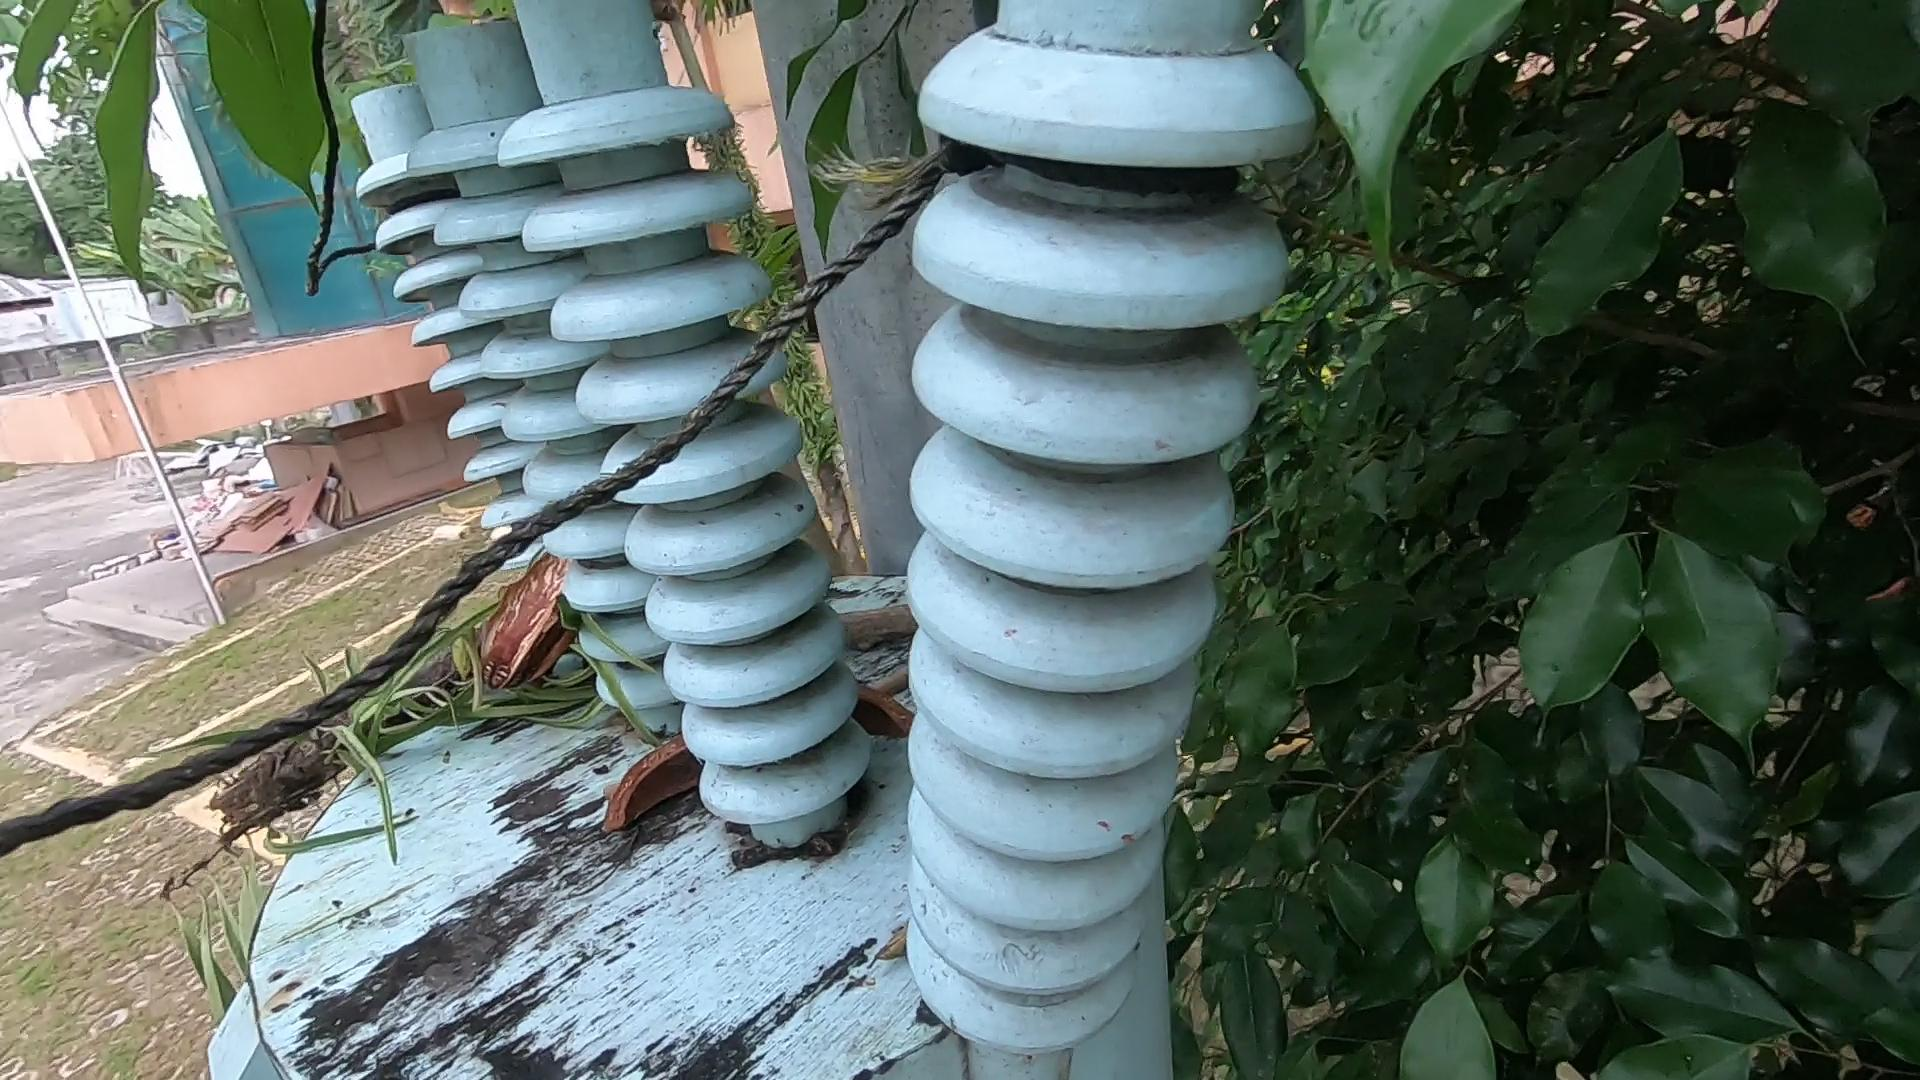branch with leaves: (233, 455, 1004, 978)
leaf: (806, 804, 949, 996)
mahogany fruit: (597, 647, 986, 874), (443, 535, 599, 699)
tree branch: (616, 609, 963, 887)
